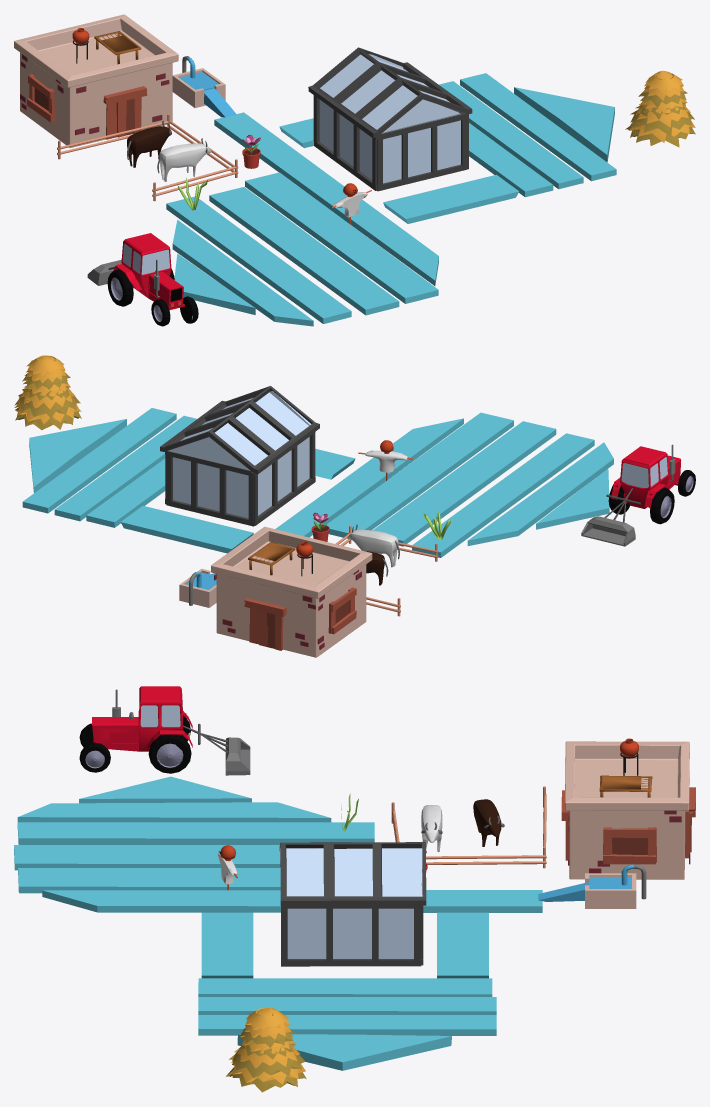
The model's file is Agriculture Assets.fbx.
3 views of the same model, one above another, from view 1: azimuth 30°, elevation 25°; view 2: azimuth 150°, elevation 25°; view 3: azimuth 270°, elevation 25° (orthographic). The views are drawn at different scales.
Parts seen in each view (by area): view 1: water rows, Cube.002, building, tractor, hay house, tube well, railing, cow, cow.001, Cot, scarecrow, flower plant; view 2: water rows, Cube.002, building, tractor, hay house, tube well, cow, Cot, scarecrow, railing; view 3: water rows, Cube.002, building, tractor, hay house, tube well, railing, cow.001, Cot, cow.
Part boxes in pixels (bbox=[...]): water rows: bbox=[166, 73, 616, 326]; Cube.002: bbox=[308, 47, 472, 191]; building: bbox=[14, 14, 178, 147]; tractor: bbox=[87, 233, 198, 326]; hay house: bbox=[625, 70, 695, 147]; tube well: bbox=[172, 56, 236, 117]; railing: bbox=[57, 114, 238, 201]; cow: bbox=[157, 138, 211, 181]; cow.001: bbox=[127, 120, 171, 167]; Cot: bbox=[94, 31, 141, 64]; scarecrow: bbox=[331, 183, 371, 224]; flower plant: bbox=[242, 135, 260, 168]; water rows: bbox=[22, 408, 613, 557]; Cube.002: bbox=[160, 386, 319, 526]; building: bbox=[211, 526, 372, 657]; tractor: bbox=[581, 444, 695, 546]; hay house: bbox=[14, 355, 81, 430]; tube well: bbox=[179, 568, 216, 607]; cow: bbox=[347, 524, 399, 567]; Cot: bbox=[248, 542, 295, 575]; scarecrow: bbox=[358, 440, 412, 480]; railing: bbox=[335, 525, 438, 616]; water rows: bbox=[14, 776, 542, 1070]; Cube.002: bbox=[279, 842, 426, 966]; building: bbox=[561, 741, 695, 879]; tractor: bbox=[79, 686, 250, 775]; hay house: bbox=[226, 1007, 306, 1092]; tube well: bbox=[538, 864, 646, 908]; railing: bbox=[391, 786, 546, 868]; cow.001: bbox=[473, 799, 504, 846]; Cot: bbox=[599, 775, 652, 797]; cow: bbox=[421, 805, 442, 852].
Size of the model in its own units: 365 by 55.17 by 307.
